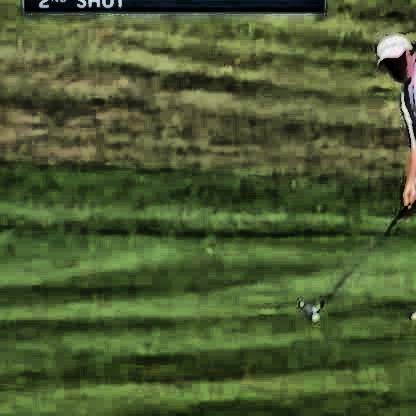golfball: (308, 310, 319, 320)
